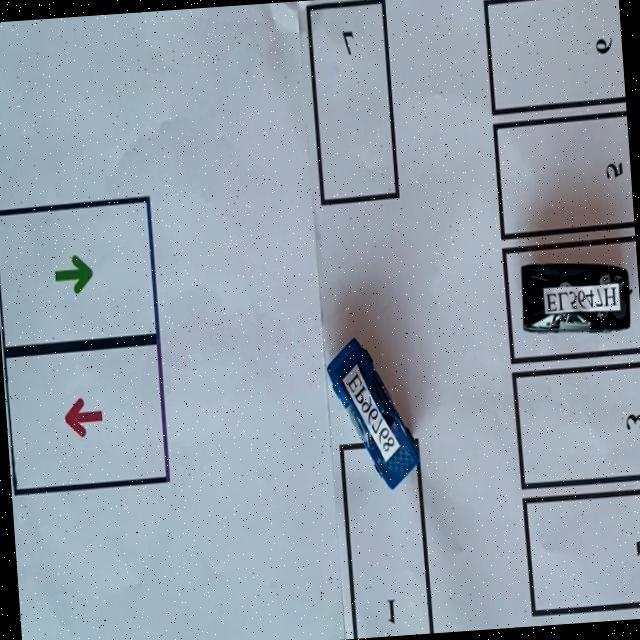car: (327, 338, 419, 488), (522, 262, 631, 331)
